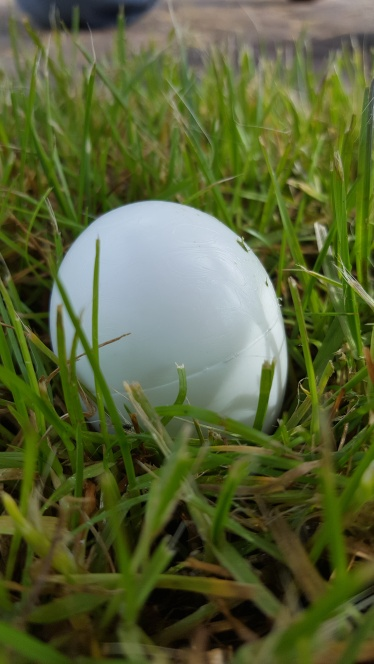egg: (49, 201, 288, 442)
